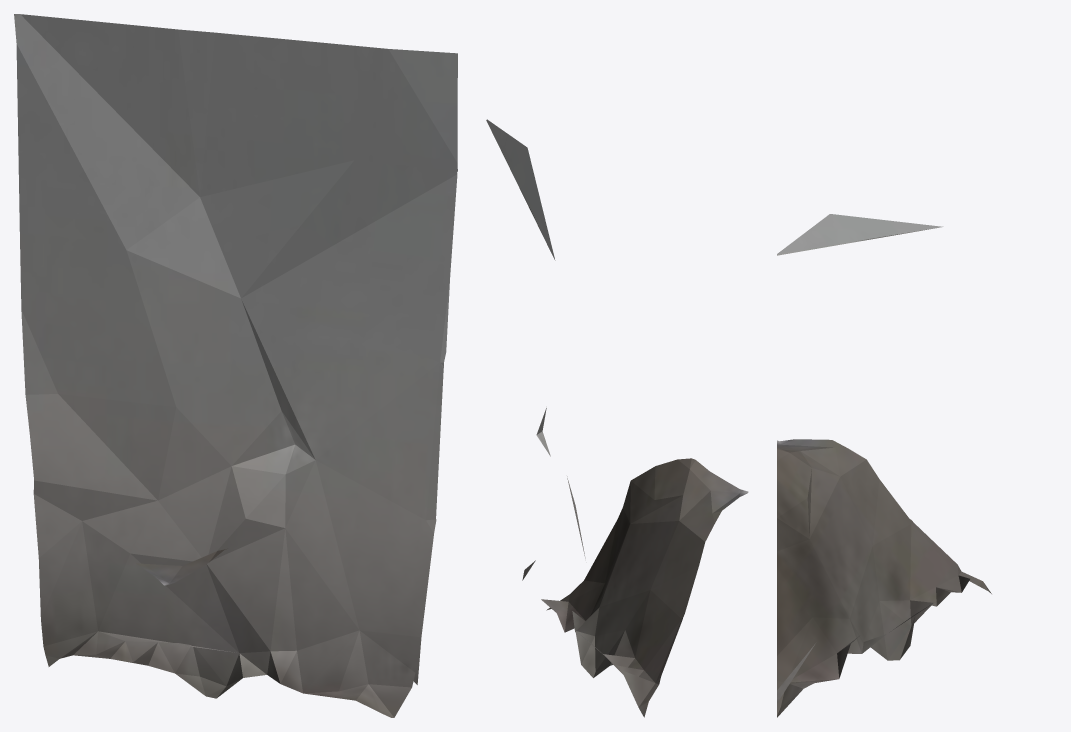
3 views of the same model, side by side, from view 1: azimuth 30°, elevation 25°; view 2: azimuth 150°, elevation 25°; view 3: azimuth 270°, elevation 25° (orthographic). The views are drawn at different scales.
Bounding box in the file's own units: 0.2696 × 0.5715 × 0.2414.
1 material, 1 textured.
